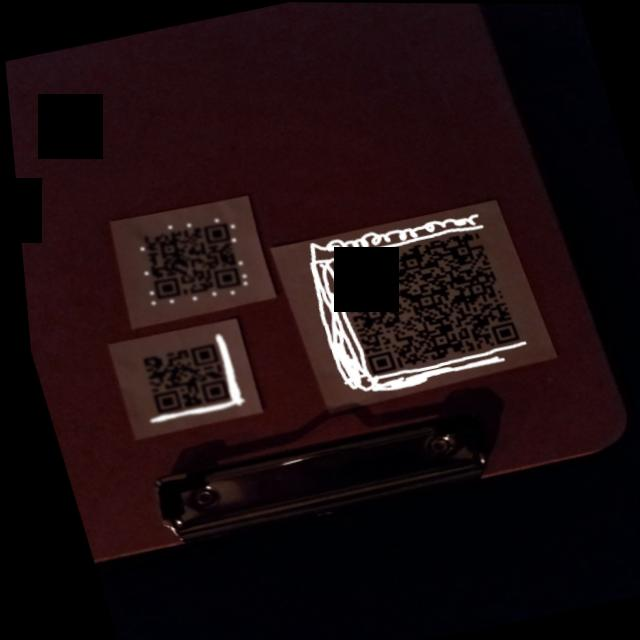QR_CODE: (300, 212, 534, 399), (114, 205, 260, 320), (115, 331, 243, 431)
